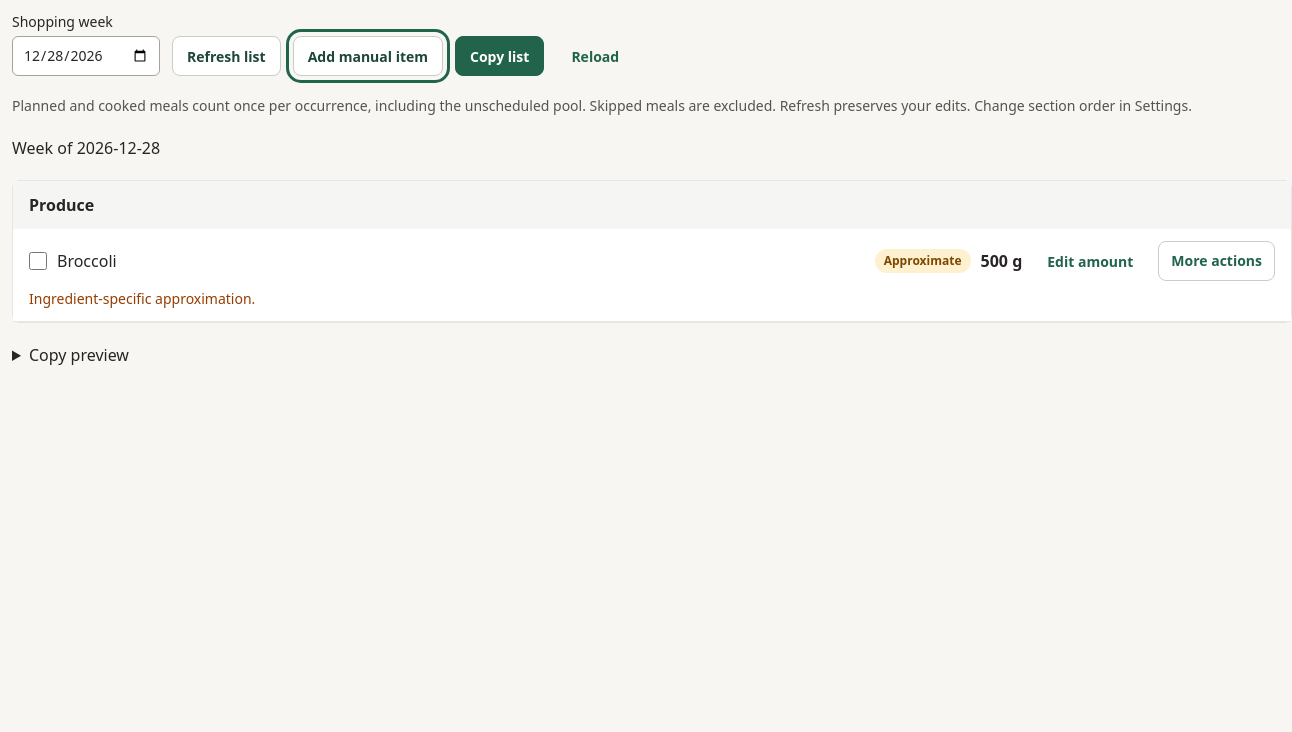
Test case: shopping editing and copying › adds a manual unknown item using the keyboard and shows exclusions and retained orphan adjustments
expect the checkbox labelled "Broccoli" is shown: met, box [29,252,47,270]
Press Enter
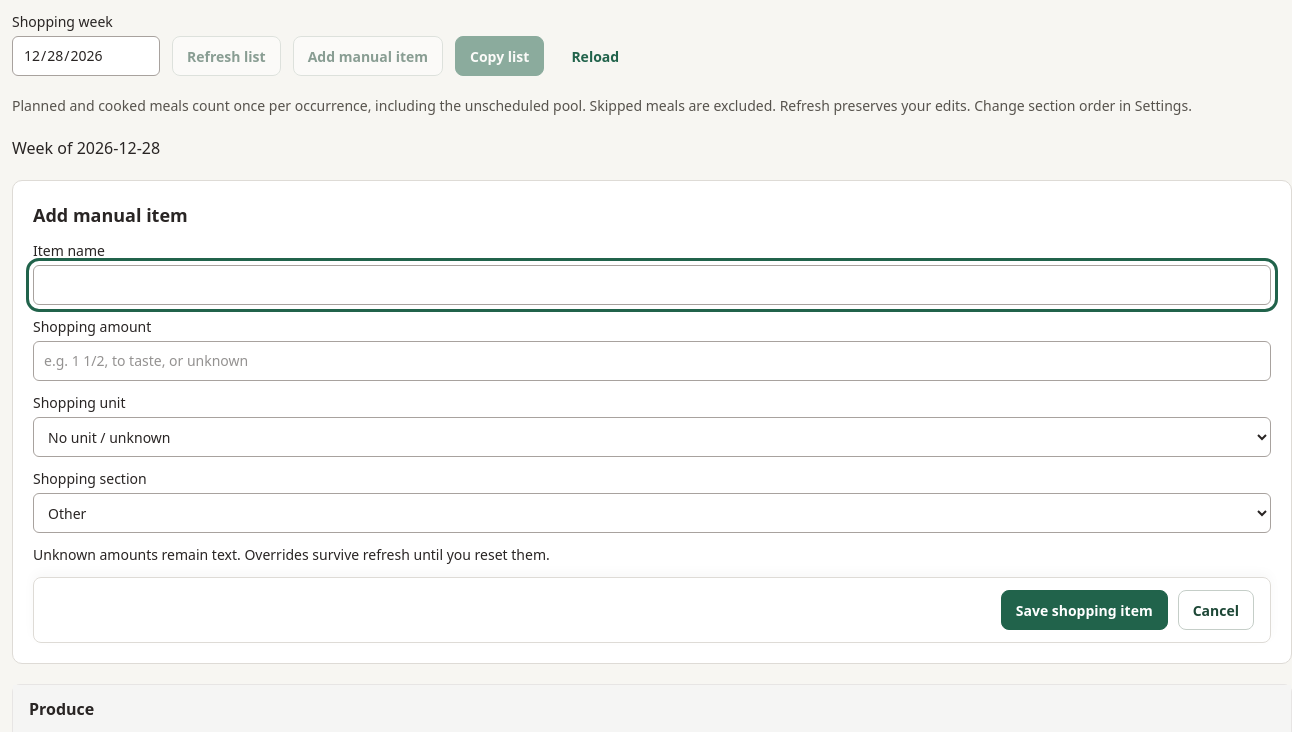
Type "Soap" into the field labelled "Item name" at (652, 285), box [33,265,1271,305]
Type "unknown" into the field labelled "Shopping amount" at (652, 361), box [33,341,1271,381]
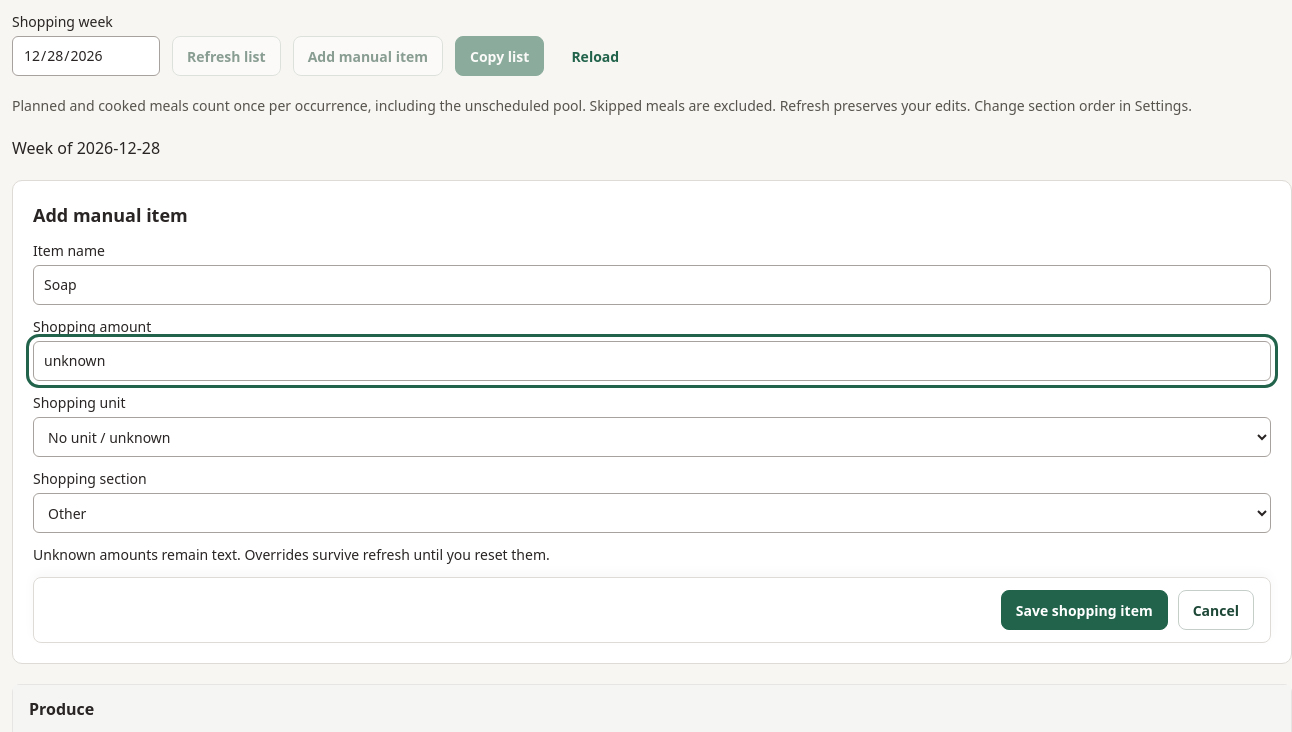
Click the button "Save shopping item" at (1084, 610), box [1001,590,1168,630]
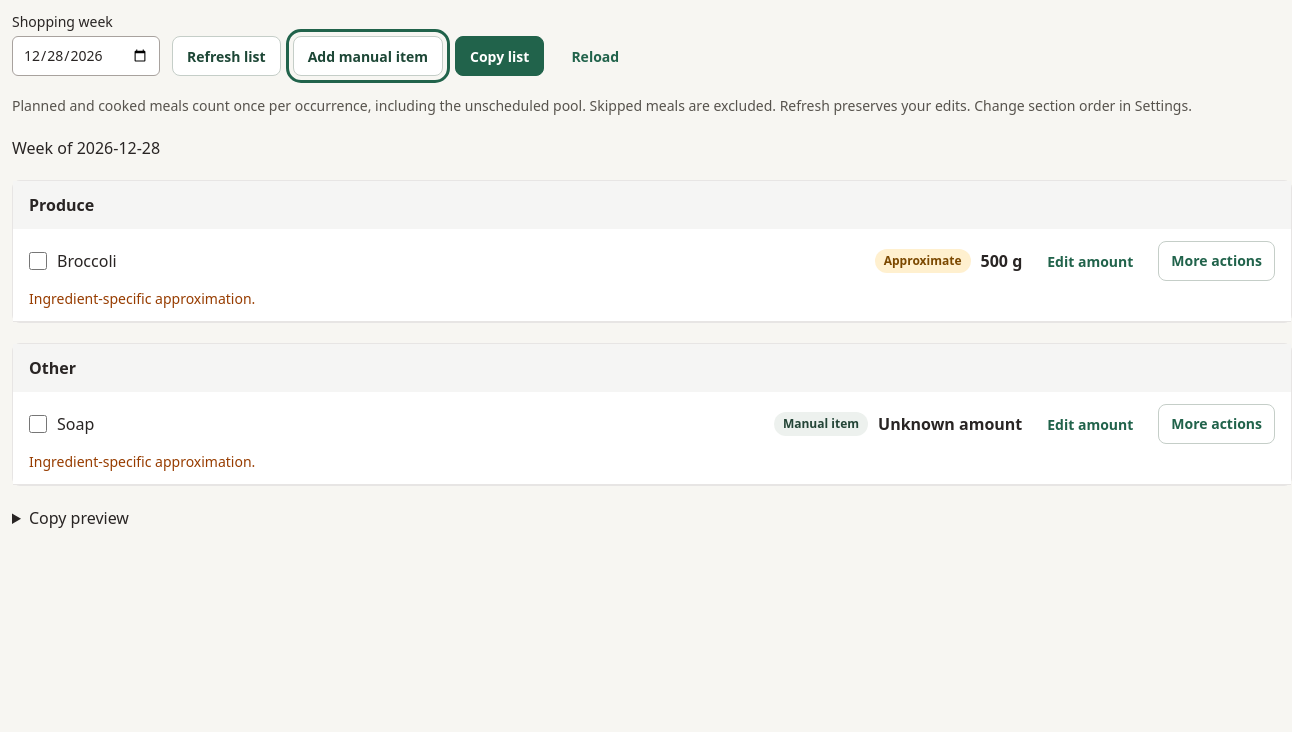
expect the text "Manual item" is shown: met, box [774,412,868,436]
Click the heading named "More actions for Broccoli" at (1217, 261), box [1158,241,1275,281]
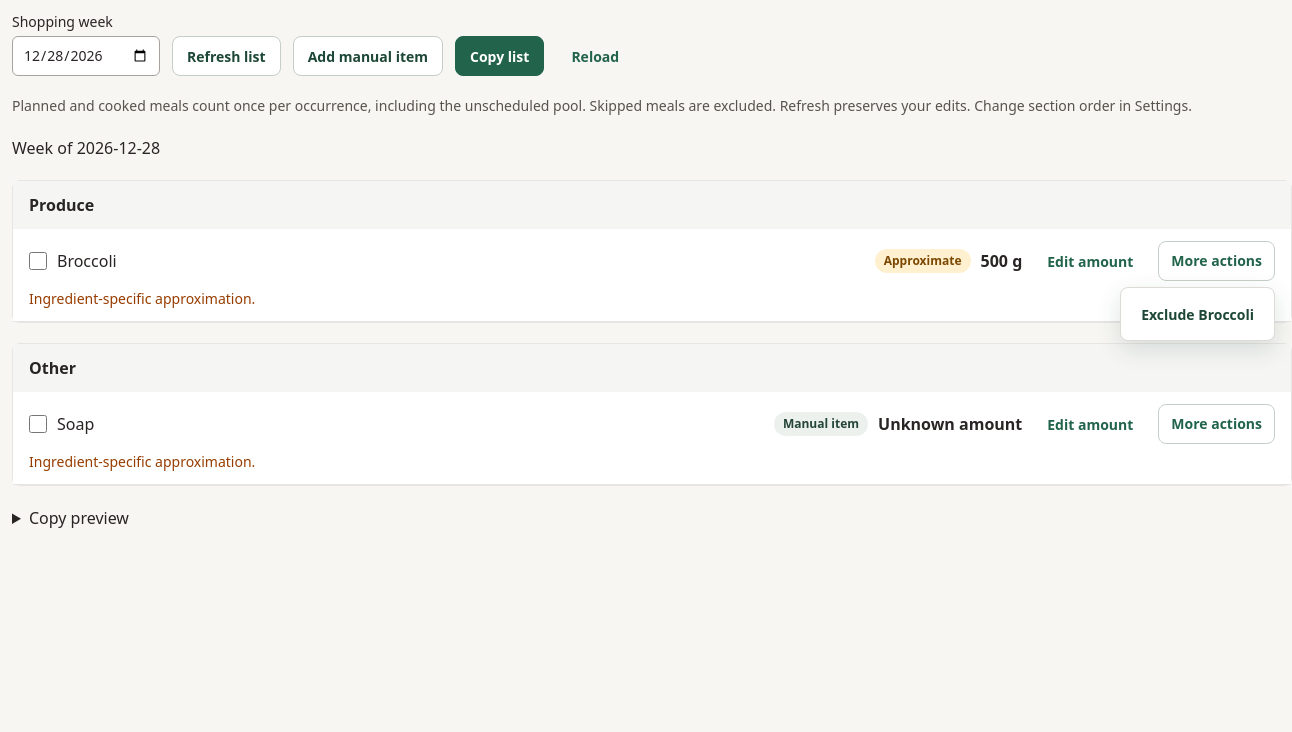
Click the button "Exclude Broccoli" at (1198, 314), box [1127,294,1268,334]
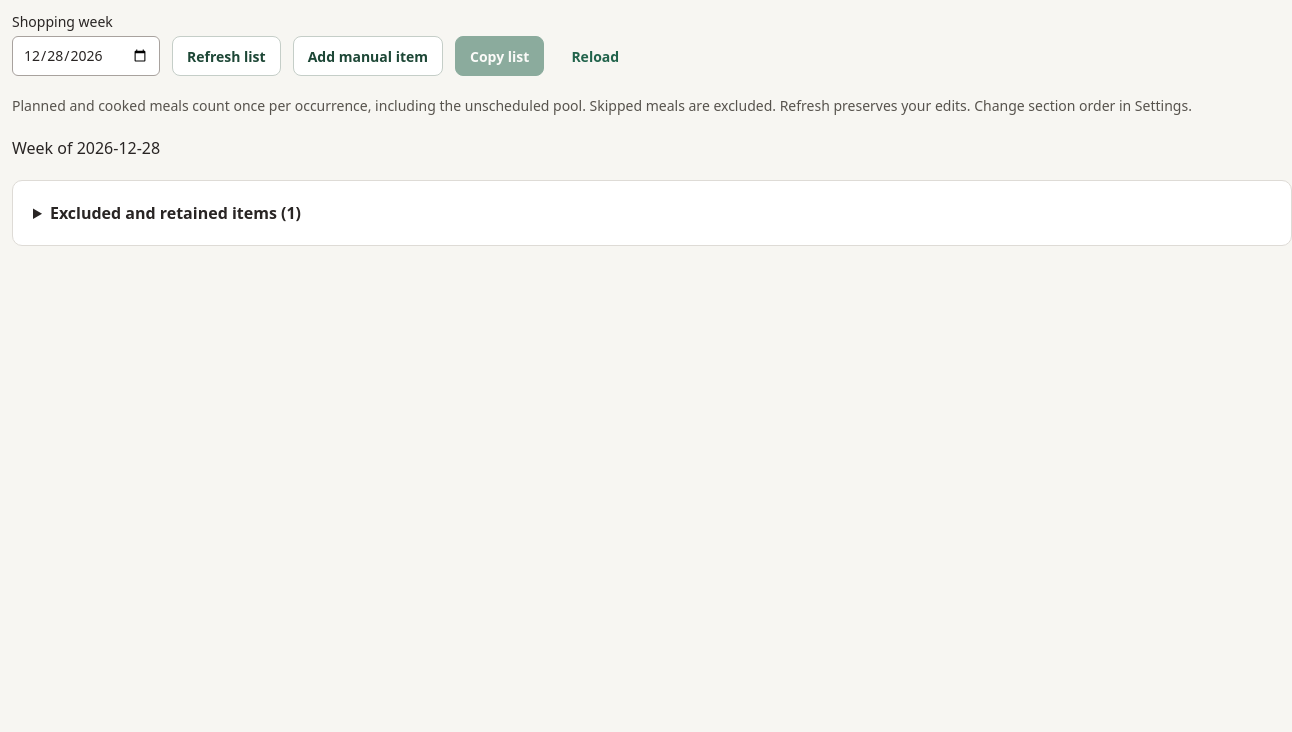
Click the heading "Excluded and retained items (1)" at (175, 213), box [50,202,301,224]
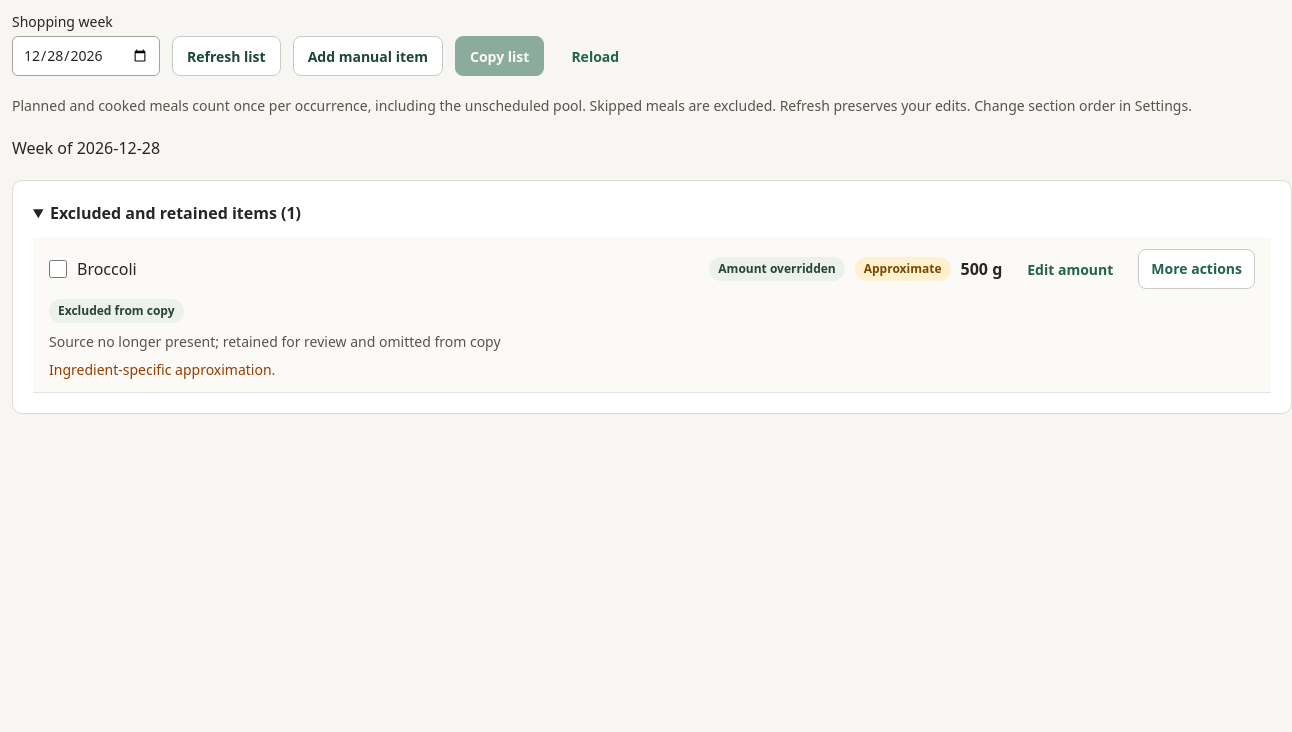
expect the button "Copy list" is disabled: met, box [455,36,544,76]
expect the text "Excluded from copy" is shown: met, box [49,299,184,323]
expect the text "Source no longer present" is shown: met, box [49,332,501,351]
